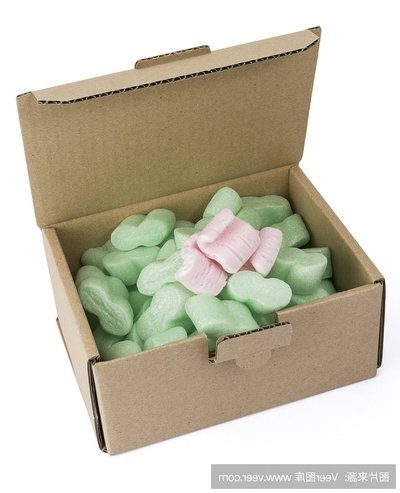5/可回收垃圾/泡沫: (74, 184, 338, 360)
